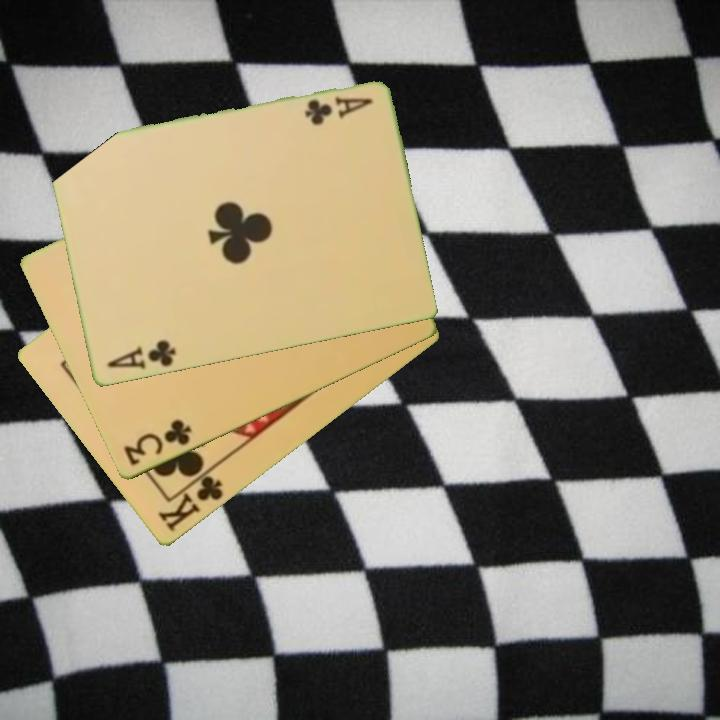3c: (119, 416, 195, 469)
Ac: (103, 337, 179, 373), (301, 93, 376, 129)
Kc: (154, 464, 226, 536)
